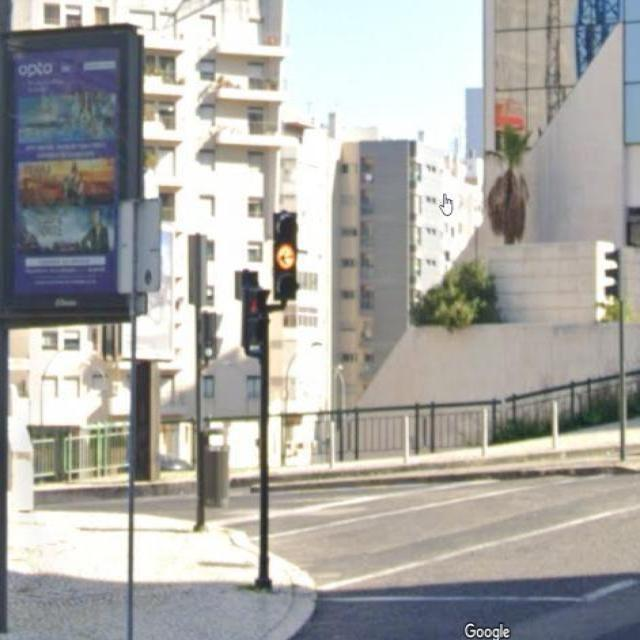yellow_light: (273, 210, 298, 307)
